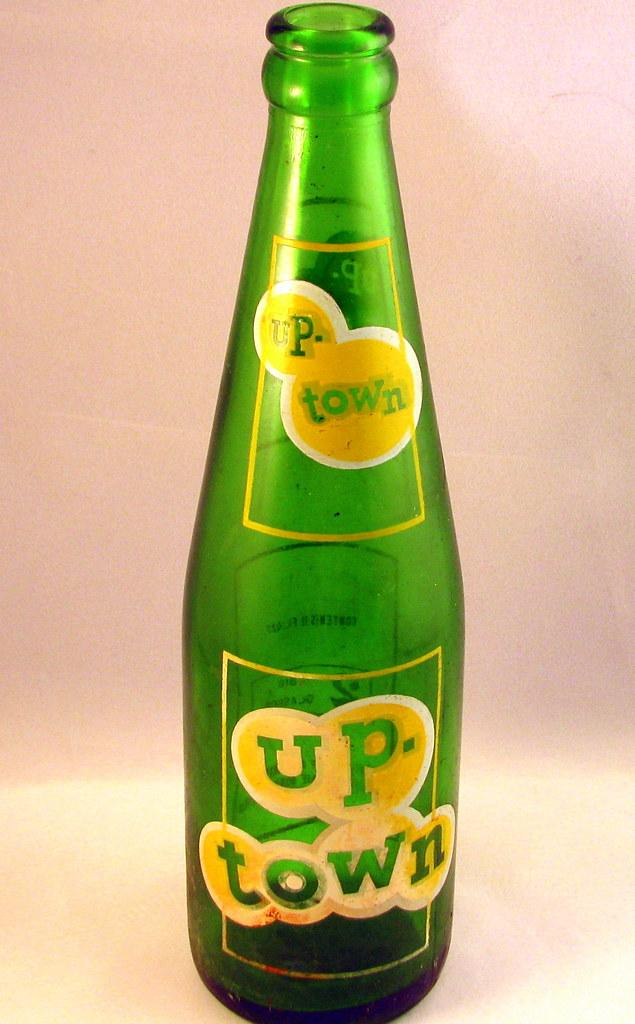bottle: (182, 3, 467, 1023)
